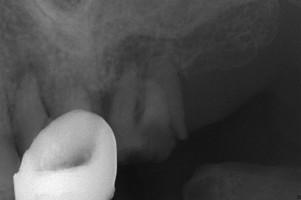Dental Caries: (104, 34, 180, 124), (10, 51, 57, 120)
